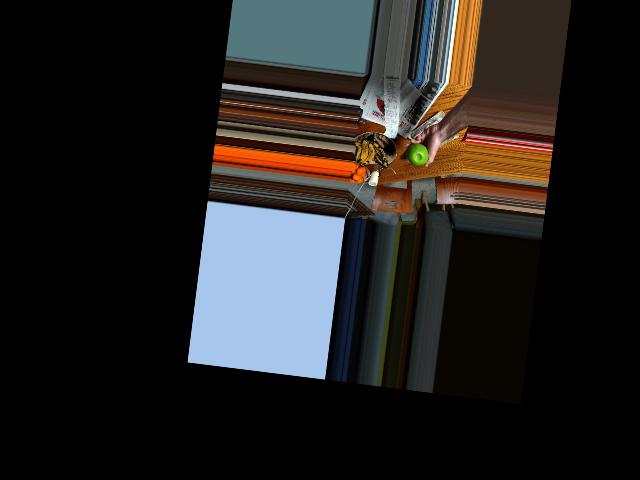apple: (407, 141, 431, 168)
